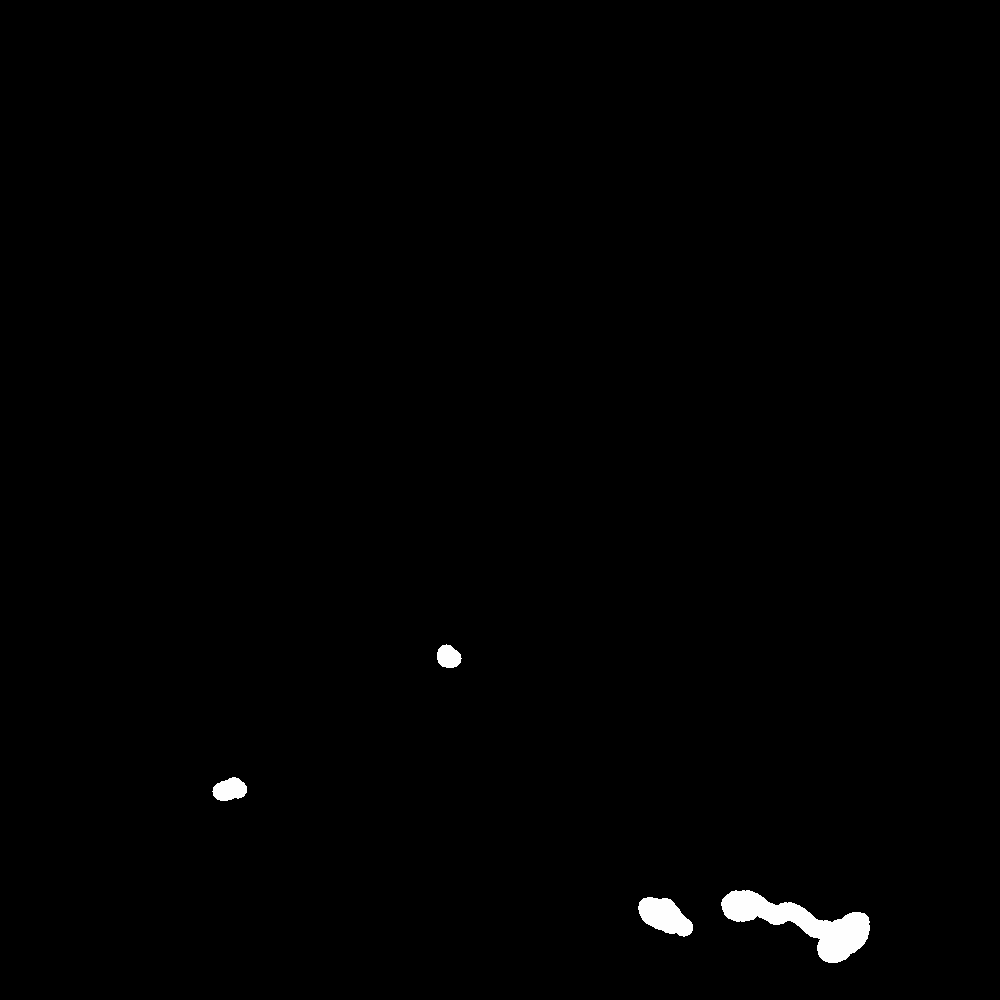illegal: (816, 908, 864, 958)
